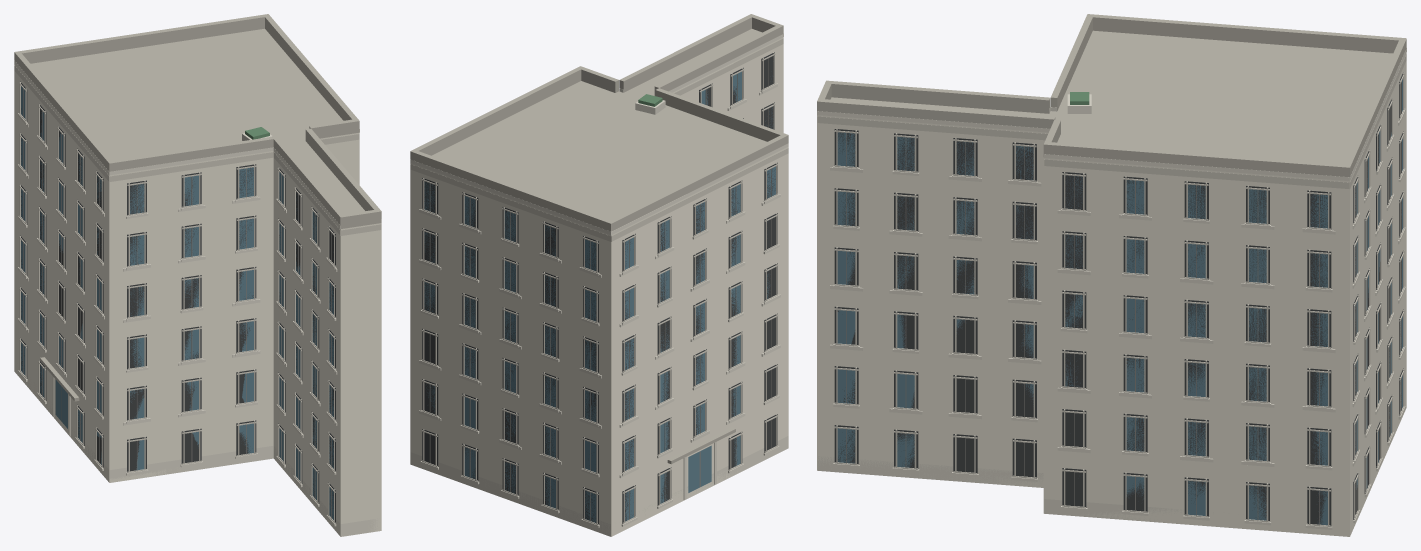
File: cop_hotel_classico_03__way_206935581.fbx
3 renders of one model, left to right at view 1: azimuth 30°, elevation 25°; view 2: azimuth 150°, elevation 25°; view 3: azimuth 270°, elevation 25°, orthographic. The views are drawn at different scales.
Visible parts, largest first — view 1: cop_hotel_classico_03__way_206935581_wall, cop_hotel_classico_03__way_206935581_roof, cop_hotel_classico_03__way_206935581_trim, cop_hotel_classico_03__way_206935581_shadow, cop_hotel_classico_03__way_206935581_glass, cop_hotel_classico_03__way_206935581_stone, cop_hotel_classico_03__way_206935581_metal; view 2: cop_hotel_classico_03__way_206935581_wall, cop_hotel_classico_03__way_206935581_roof, cop_hotel_classico_03__way_206935581_shadow, cop_hotel_classico_03__way_206935581_glass, cop_hotel_classico_03__way_206935581_trim, cop_hotel_classico_03__way_206935581_stone, cop_hotel_classico_03__way_206935581_metal; view 3: cop_hotel_classico_03__way_206935581_wall, cop_hotel_classico_03__way_206935581_roof, cop_hotel_classico_03__way_206935581_shadow, cop_hotel_classico_03__way_206935581_glass, cop_hotel_classico_03__way_206935581_trim, cop_hotel_classico_03__way_206935581_stone, cop_hotel_classico_03__way_206935581_metal.
Boxes of the visible parts, bbox=[...] form: cop_hotel_classico_03__way_206935581_wall: bbox=[14, 64, 381, 536]; cop_hotel_classico_03__way_206935581_roof: bbox=[14, 14, 381, 401]; cop_hotel_classico_03__way_206935581_trim: bbox=[14, 65, 381, 523]; cop_hotel_classico_03__way_206935581_shadow: bbox=[20, 81, 335, 523]; cop_hotel_classico_03__way_206935581_glass: bbox=[21, 86, 333, 520]; cop_hotel_classico_03__way_206935581_stone: bbox=[14, 60, 381, 536]; cop_hotel_classico_03__way_206935581_metal: bbox=[23, 89, 331, 518]; cop_hotel_classico_03__way_206935581_wall: bbox=[410, 37, 788, 536]; cop_hotel_classico_03__way_206935581_roof: bbox=[410, 14, 788, 464]; cop_hotel_classico_03__way_206935581_shadow: bbox=[422, 52, 777, 524]; cop_hotel_classico_03__way_206935581_glass: bbox=[424, 71, 775, 522]; cop_hotel_classico_03__way_206935581_trim: bbox=[410, 38, 788, 524]; cop_hotel_classico_03__way_206935581_stone: bbox=[410, 34, 788, 536]; cop_hotel_classico_03__way_206935581_metal: bbox=[429, 58, 771, 521]; cop_hotel_classico_03__way_206935581_wall: bbox=[817, 53, 1406, 536]; cop_hotel_classico_03__way_206935581_roof: bbox=[817, 14, 1406, 177]; cop_hotel_classico_03__way_206935581_shadow: bbox=[834, 72, 1403, 526]; cop_hotel_classico_03__way_206935581_glass: bbox=[837, 79, 1402, 525]; cop_hotel_classico_03__way_206935581_trim: bbox=[817, 54, 1406, 526]; cop_hotel_classico_03__way_206935581_stone: bbox=[817, 48, 1406, 536]; cop_hotel_classico_03__way_206935581_metal: bbox=[846, 81, 1401, 524].
Bounding box in the file's own units: 1669 × 1869 × 2705.
